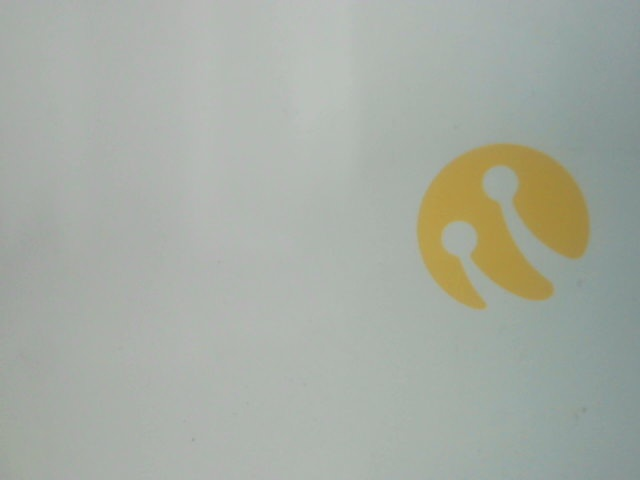AV_H3600Yellow: (399, 121, 598, 315)
